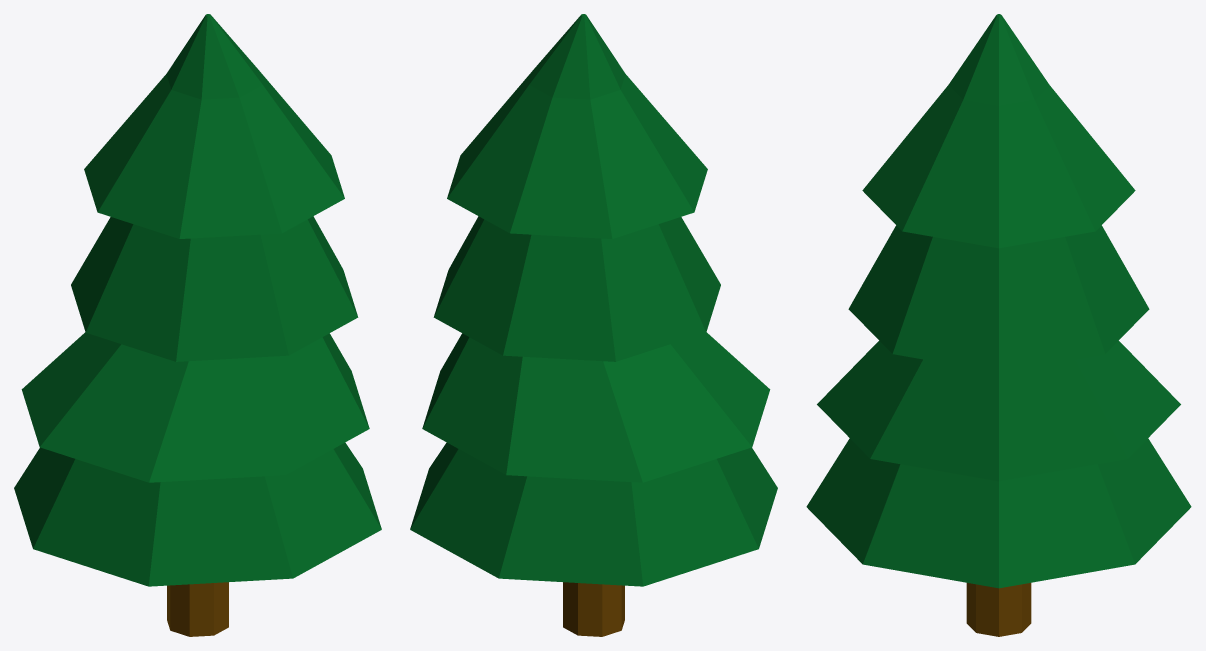
The model's file is cemara.fbx.
3 views of the same model, side by side, from view 1: azimuth 30°, elevation 25°; view 2: azimuth 150°, elevation 25°; view 3: azimuth 270°, elevation 25° (orthographic).
Visible parts, largest first — view 1: Low poly tree; view 2: Low poly tree; view 3: Low poly tree.
Boxes of the visible parts, x1,y1,x2,y2 form: Low poly tree: (14,14,381,636); Low poly tree: (410,14,777,636); Low poly tree: (806,14,1191,636).
Bounding box in the file's own units: 3.21 × 5.64 × 3.21.
Materials: 1 (1 with a texture image).
